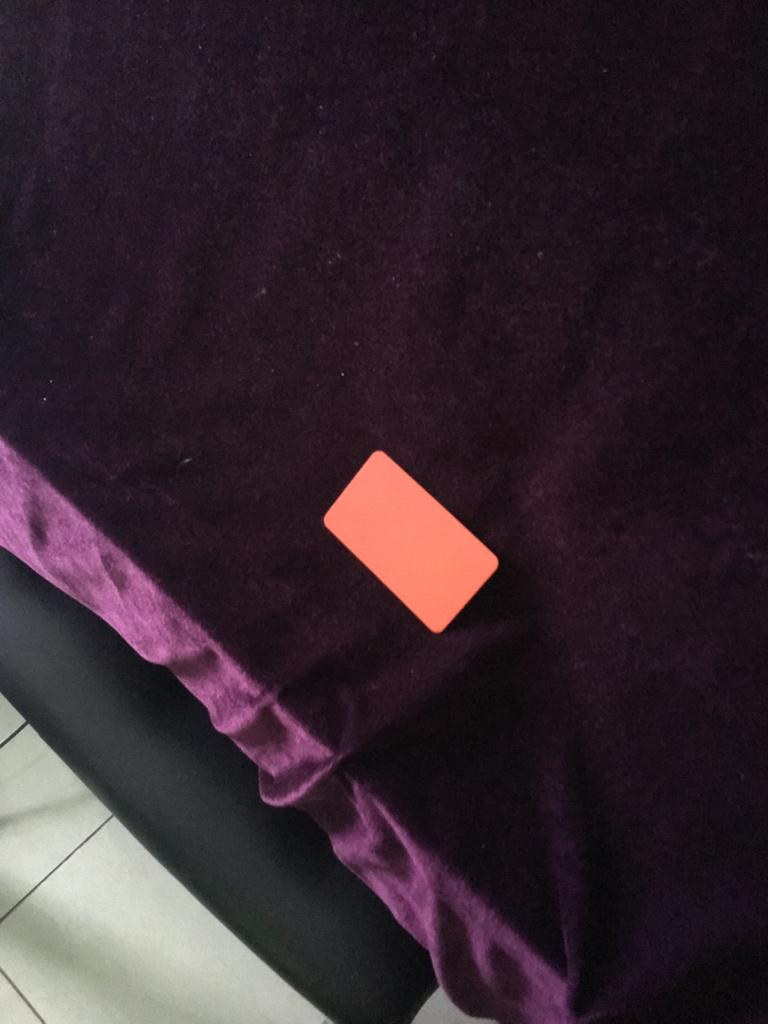red: (299, 434, 519, 641)
